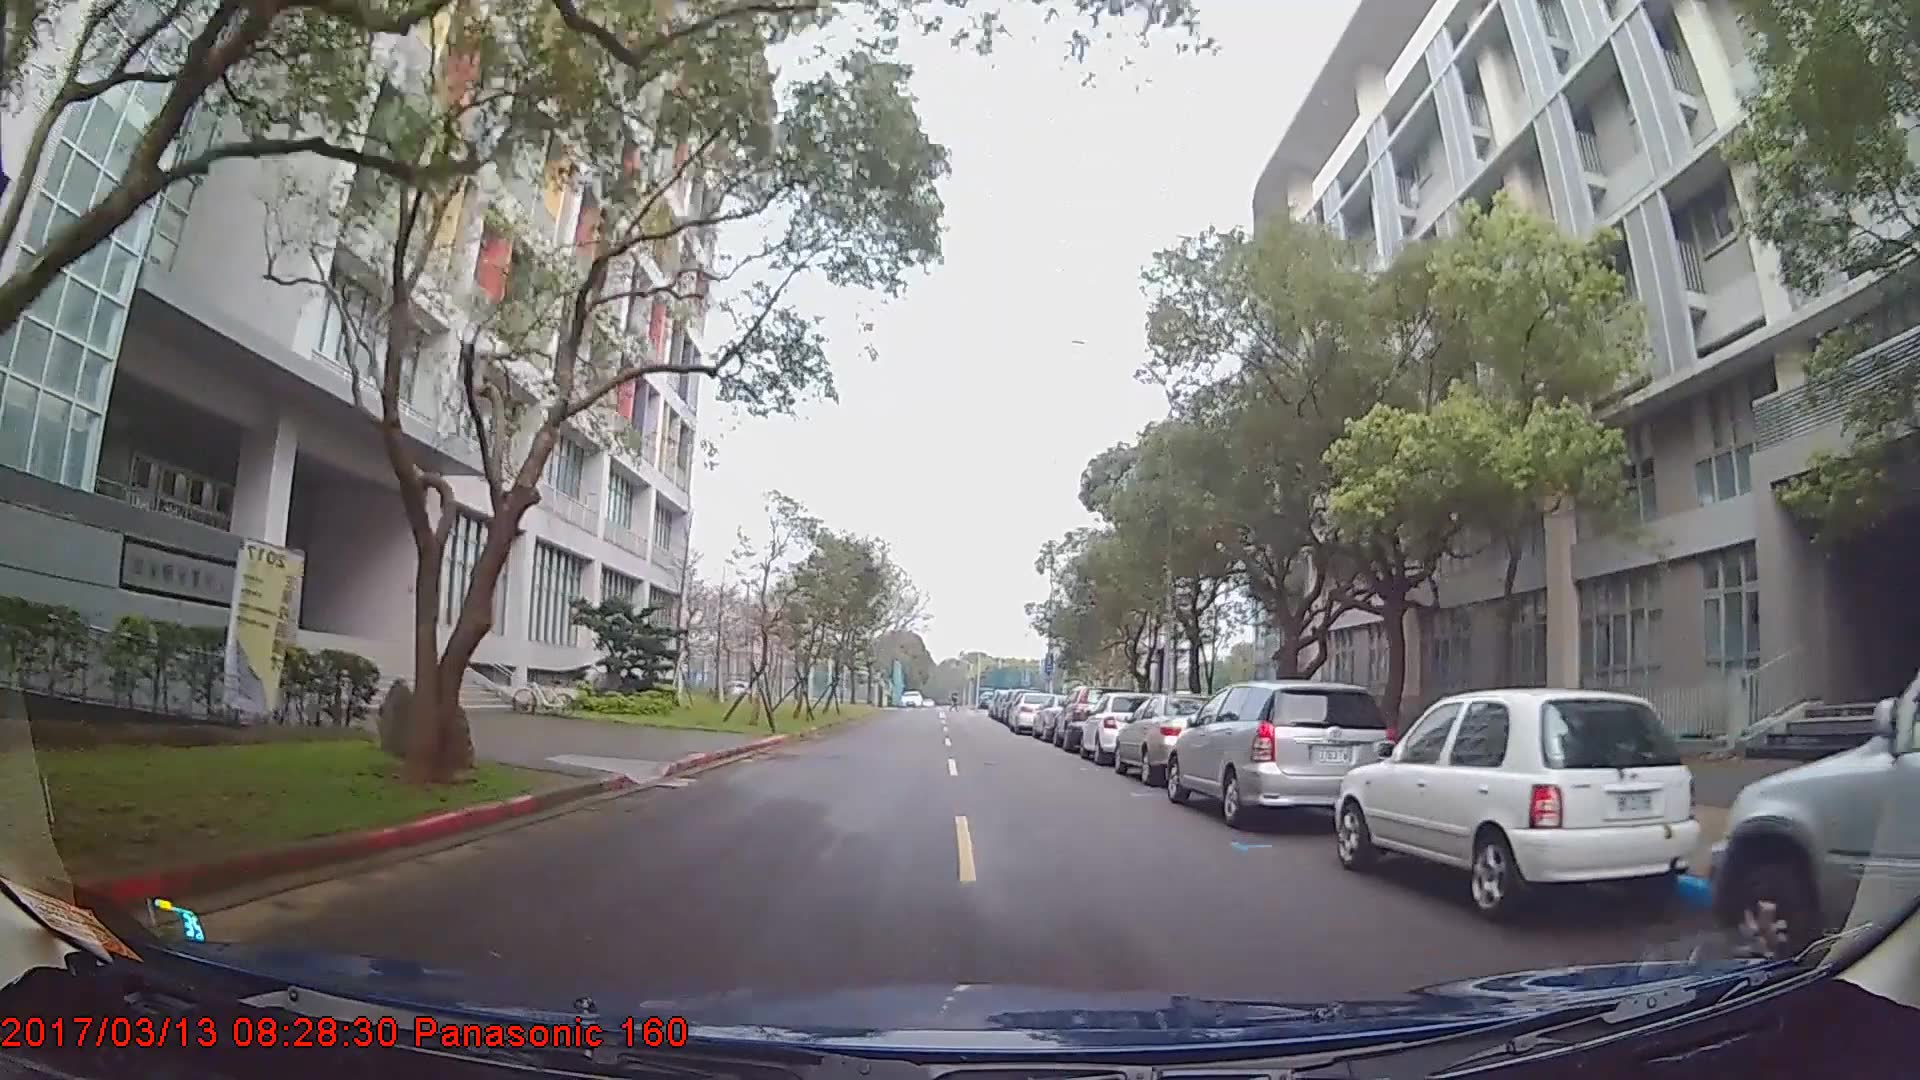vehicle: (1335, 686, 1701, 919), (1708, 662, 1919, 985), (1164, 679, 1394, 827), (1113, 690, 1240, 782), (1077, 690, 1159, 765), (1007, 688, 1062, 735)
